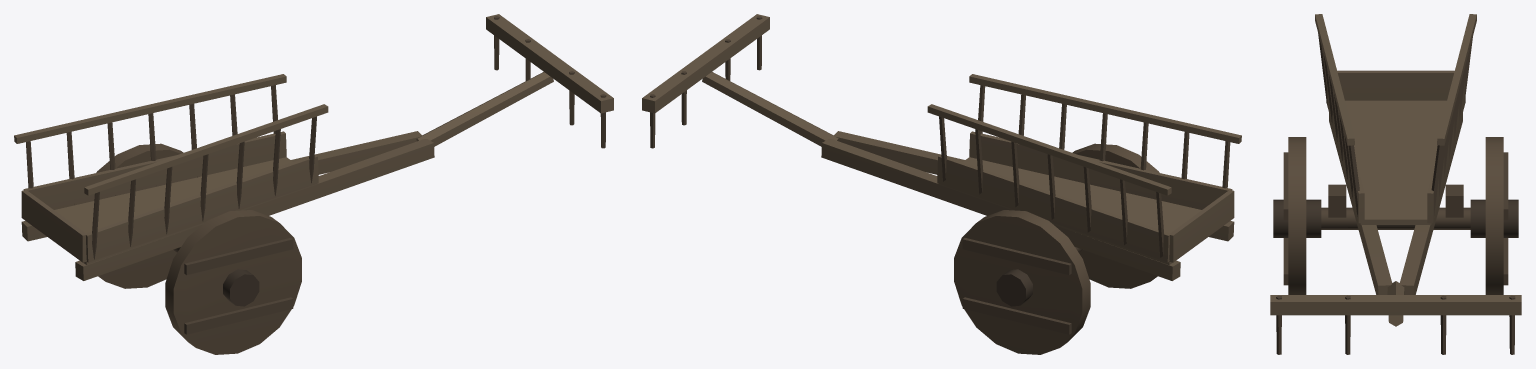
Rendered from actor-ox-cart.glb.
3 renders of one model, left to right at view 1: azimuth 30°, elevation 25°; view 2: azimuth 150°, elevation 25°; view 3: azimuth 270°, elevation 25°, orthographic. The views are drawn at different scales.
Parts seen in each view (by area): view 1: body, wheel_r, wheel_l; view 2: body, wheel_l, wheel_r; view 3: body, wheel_l, wheel_r.
Part boxes in pixels (x1=…): body: x1=14, y1=14, x2=613, y2=280; wheel_r: x1=165, y1=210, x2=301, y2=354; wheel_l: x1=96, y1=143, x2=183, y2=288; body: x1=642, y1=14, x2=1241, y2=280; wheel_l: x1=954, y1=210, x2=1090, y2=354; wheel_r: x1=1072, y1=143, x2=1159, y2=288; body: x1=1270, y1=14, x2=1521, y2=354; wheel_l: x1=1470, y1=137, x2=1518, y2=294; wheel_r: x1=1273, y1=137, x2=1321, y2=294.
Size of the model in its own units: 4.27 by 1.6 by 1.68.
